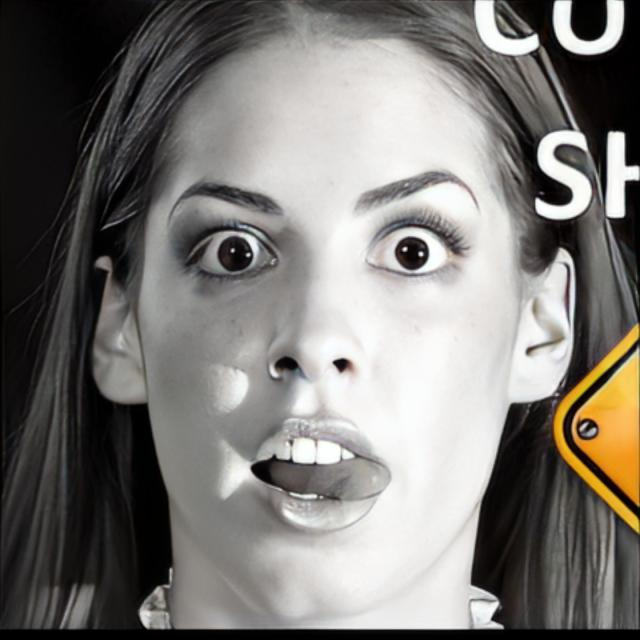surprise: (140, 49, 518, 586)
